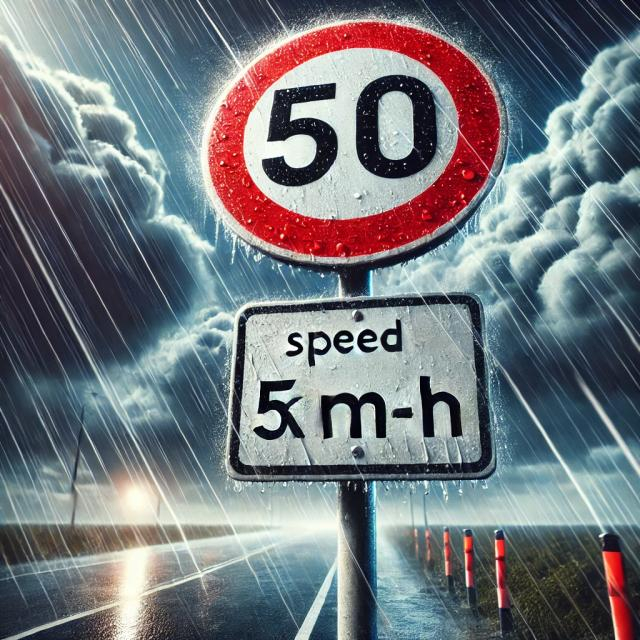Speed limit 50: (201, 19, 509, 270)
